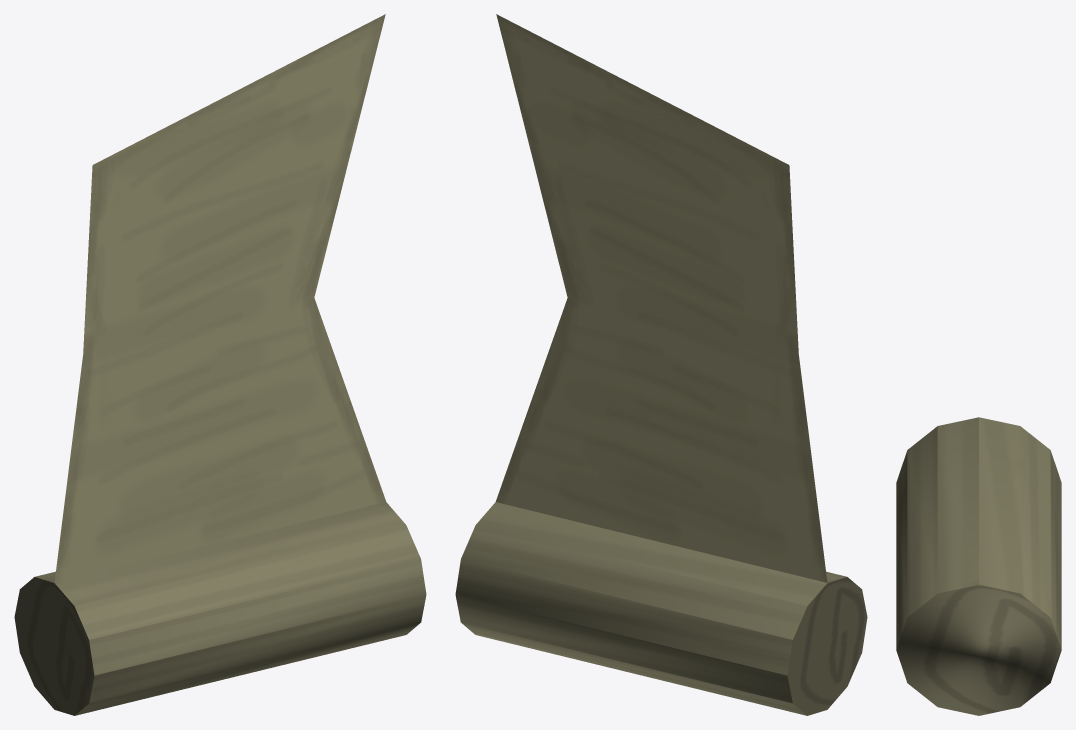
The model's file is frammentoPergamena3.fbx.
3 views of the same model, side by side, from view 1: azimuth 30°, elevation 25°; view 2: azimuth 150°, elevation 25°; view 3: azimuth 270°, elevation 25° (orthographic). The views are drawn at different scales.
Visible parts, largest first — view 1: Cylinder.002; view 2: Cylinder.002; view 3: Cylinder.002.
Part boxes in pixels (x1=…): Cylinder.002: x1=14, y1=14, x2=426, y2=715; Cylinder.002: x1=455, y1=14, x2=867, y2=715; Cylinder.002: x1=896, y1=417, x2=1061, y2=715.
Bounding box in the file's own units: 34.25 × 60.6 × 14.29.
